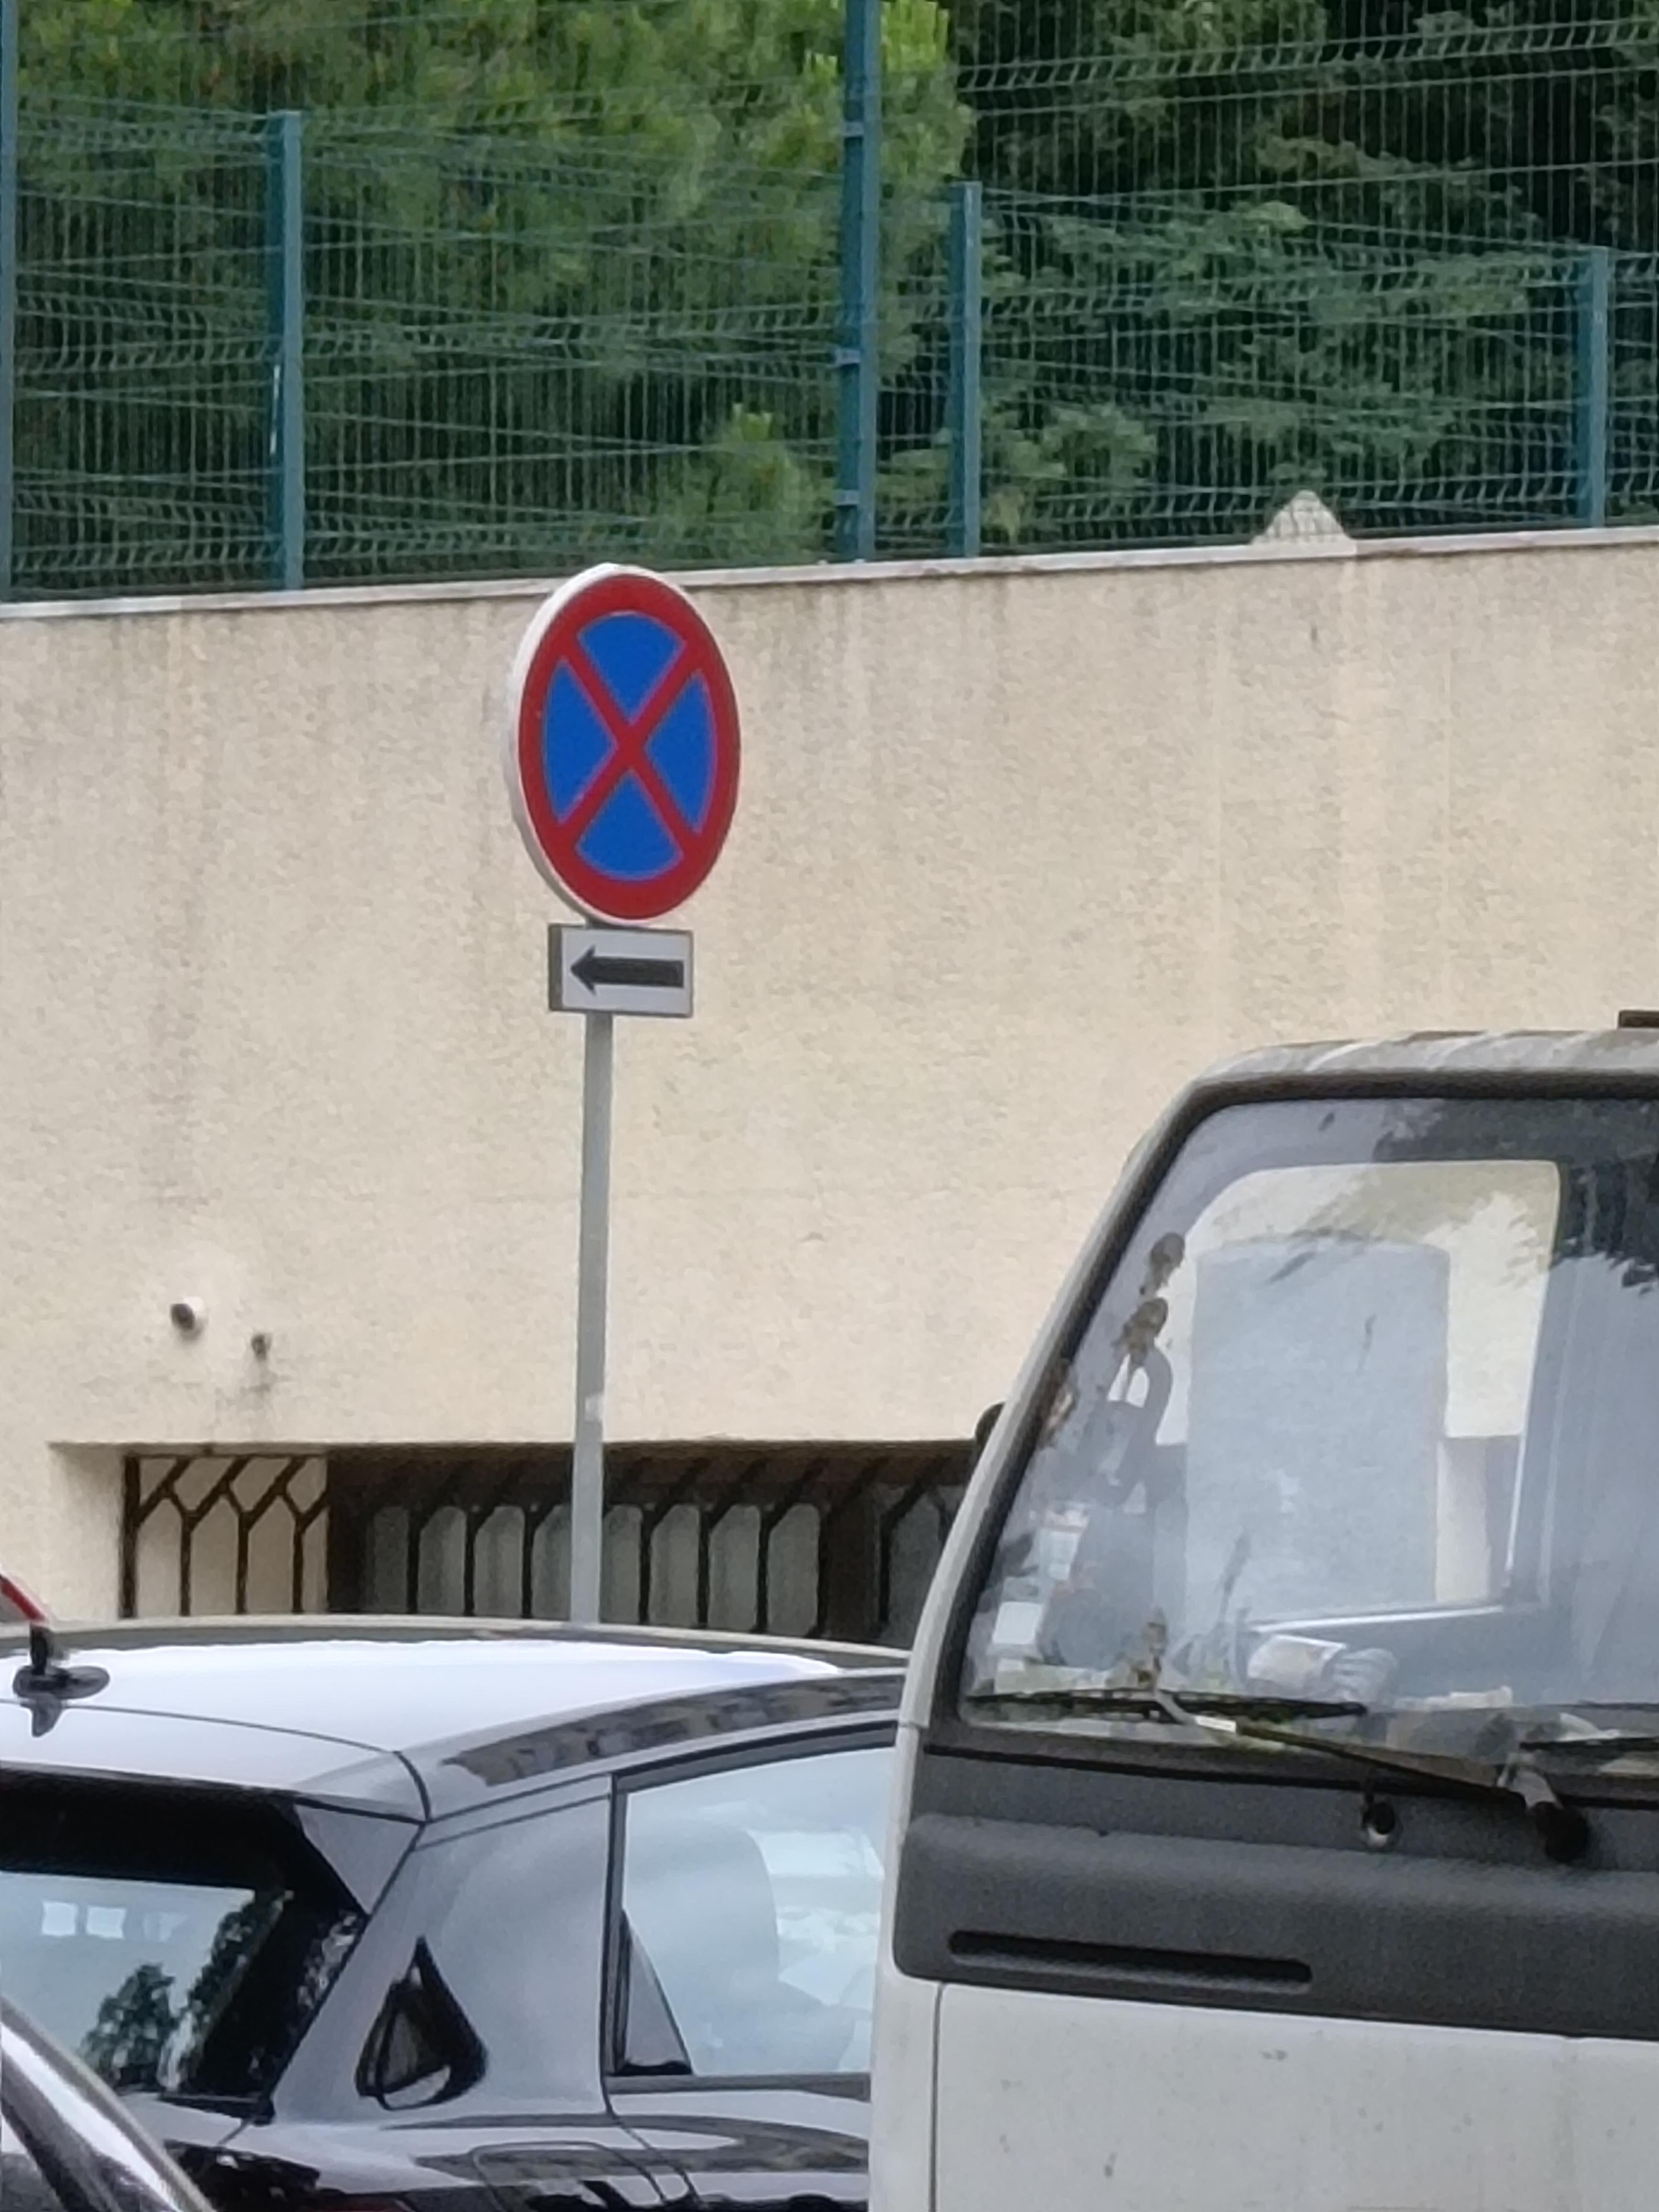Indicadores do inicio ou fim do local regulamentado: (538, 921, 706, 1022)
paragem e estacionamneto proibidos: (509, 589, 744, 913)
